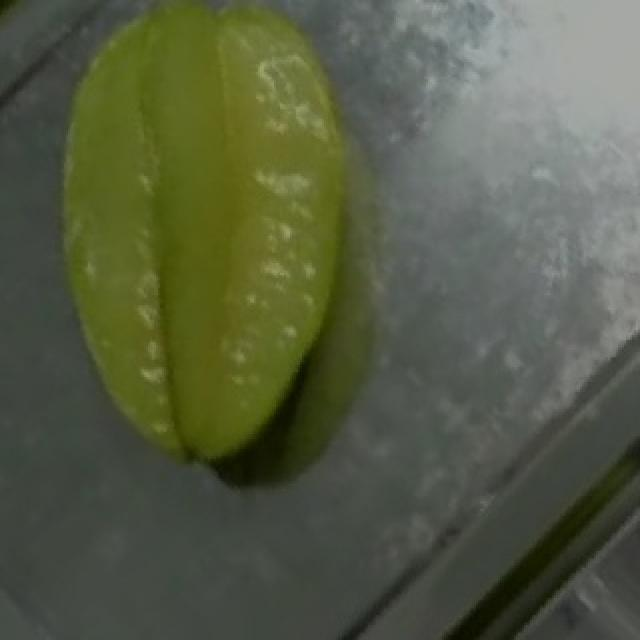fruit: (14, 0, 422, 384)
